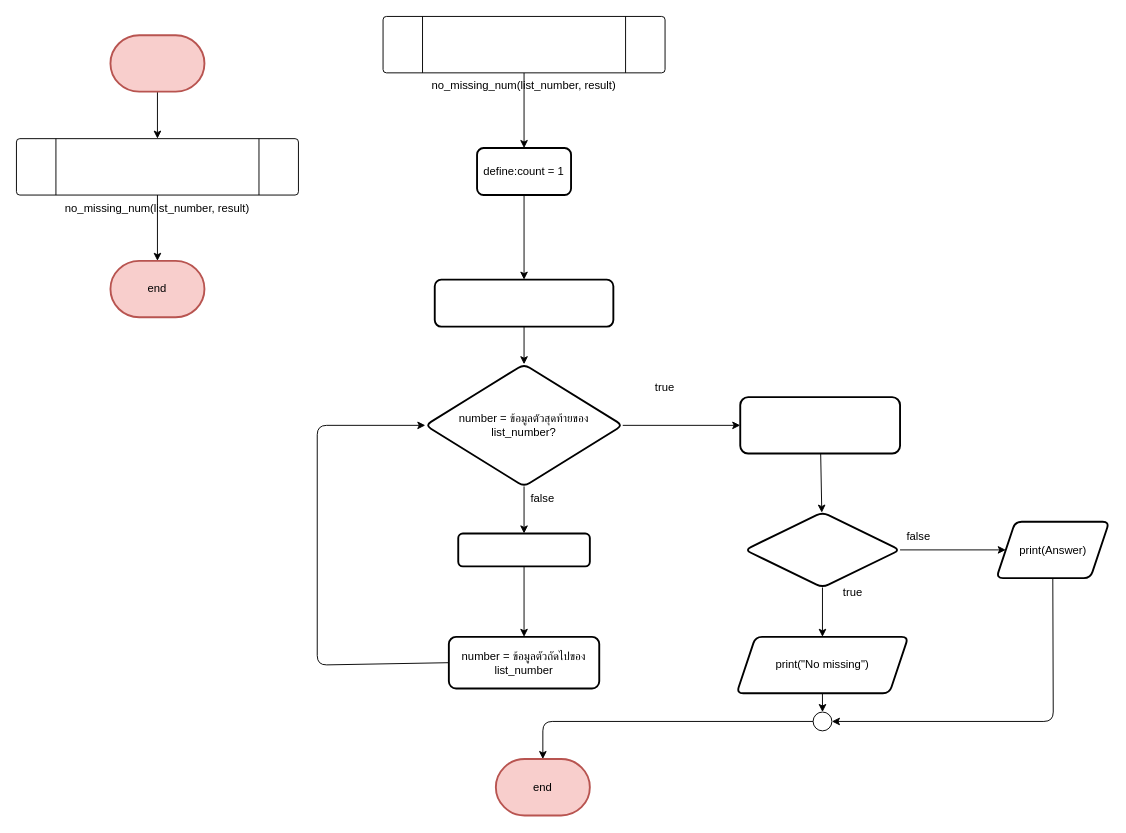
The diagram is 1126 pixels wide and 833 high, and some of its shapes have lost their labels. The centre of each missing label's shape, as x and y in pixels:
count = count * number: the point at 523,549
define Answer = [result]: the point at 820,425
define:number = ข้อมูลตัวแรกขออง list number: the point at 523,302
if Answer == 1?: the point at 822,549
start: the point at 157,63
